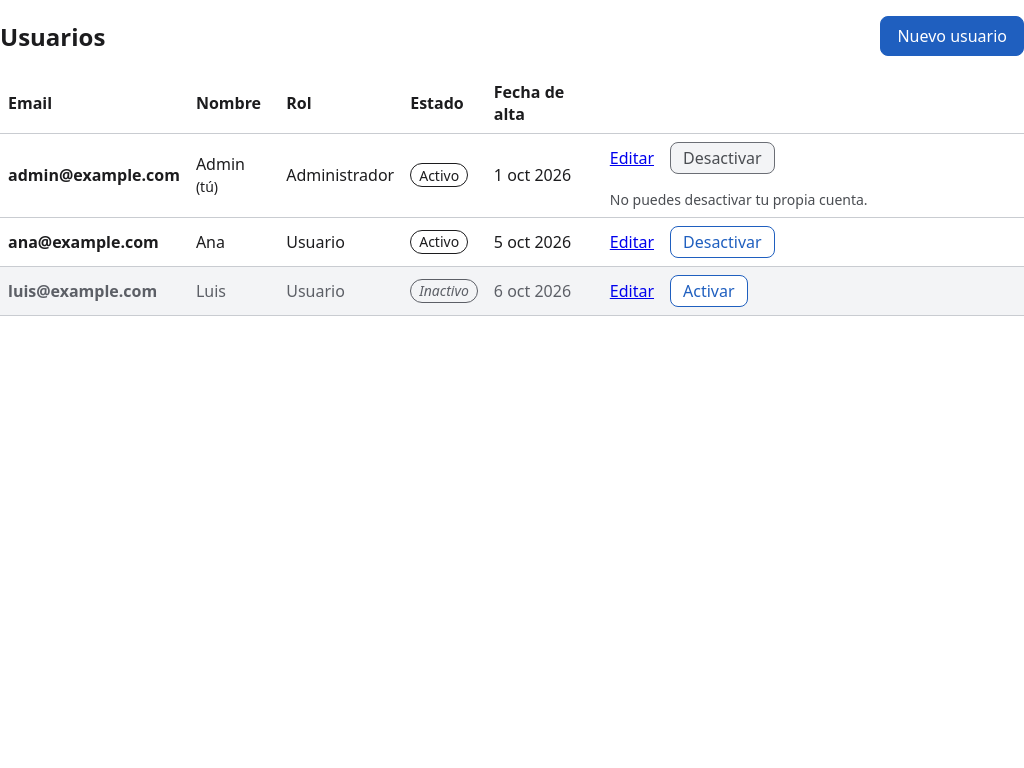
Test case: UsuarioListComponent › activar y desactivar › abre el diálogo con el usuario y no envía nada todavía
Click the button "Desactivar" in the row of "ana@example.com": (722, 242) [670,226,775,258]
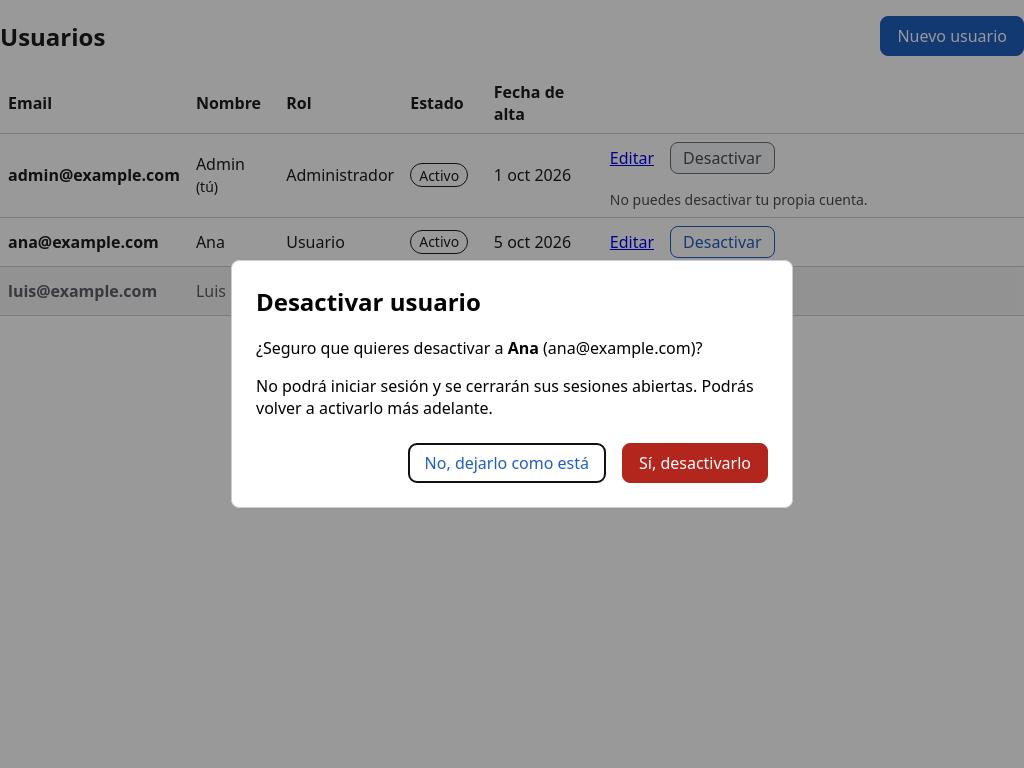
Check: the dialog shows "Ana", box [508,338,539,360]
Check: the dialog shows "Desactivar", box [256,284,481,318]
